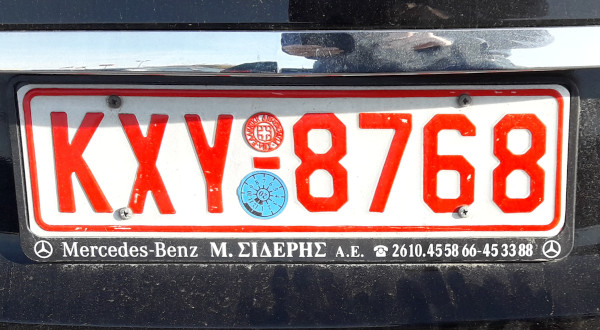license_plate: (14, 82, 567, 239)
